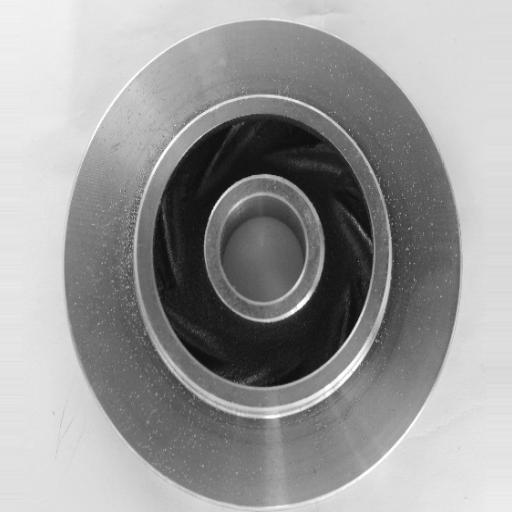unpolished_casting: (58, 17, 461, 509)
